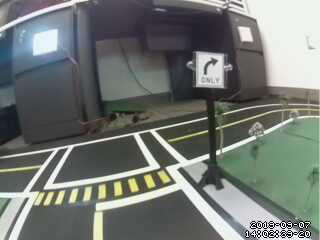Right_only_sign: (194, 49, 229, 90)
